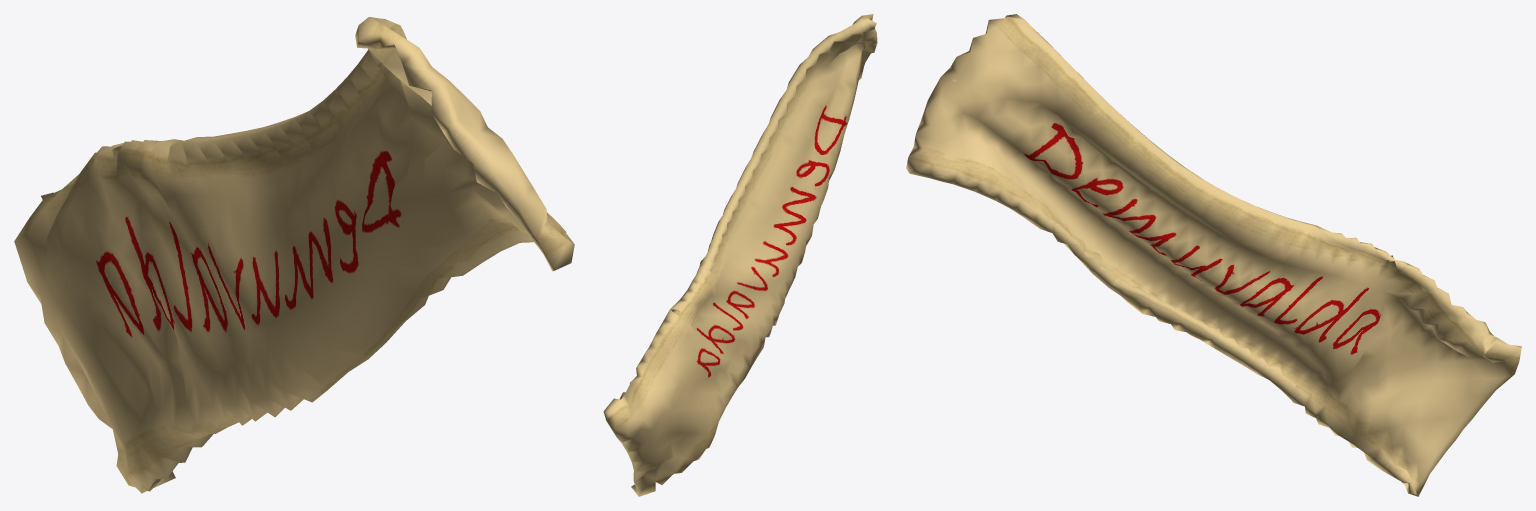
File: TitleFlag.glb
3 views of the same model, side by side, from view 1: azimuth 30°, elevation 25°; view 2: azimuth 150°, elevation 25°; view 3: azimuth 270°, elevation 25° (orthographic). The views are drawn at different scales.
Parts seen in each view (by area): view 1: Plane.002; view 2: Plane.002; view 3: Plane.002.
Boxes of the visible parts, <box> form: Plane.002: <box>14,17,574,493</box>; Plane.002: <box>603,14,877,496</box>; Plane.002: <box>906,14,1521,496</box>.
Size of the model in its own units: 0.3942 by 1.75 by 2.19.
Materials: 1 (1 with a texture image).
